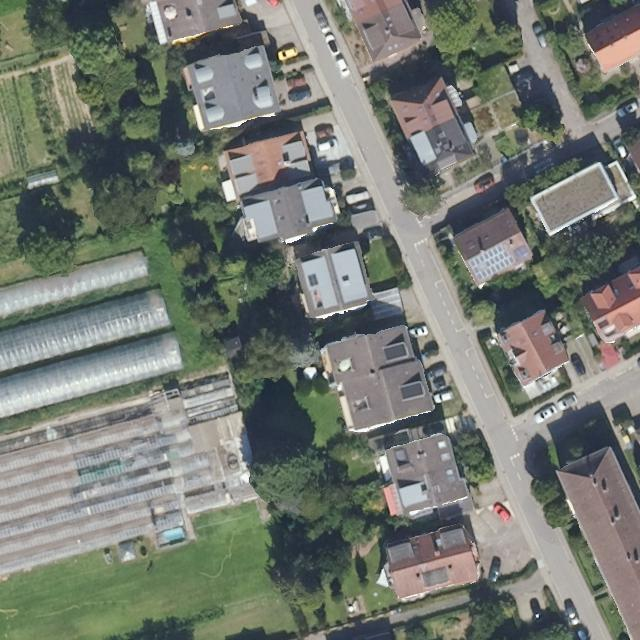PV: (468, 243, 516, 282), (306, 272, 321, 288)
